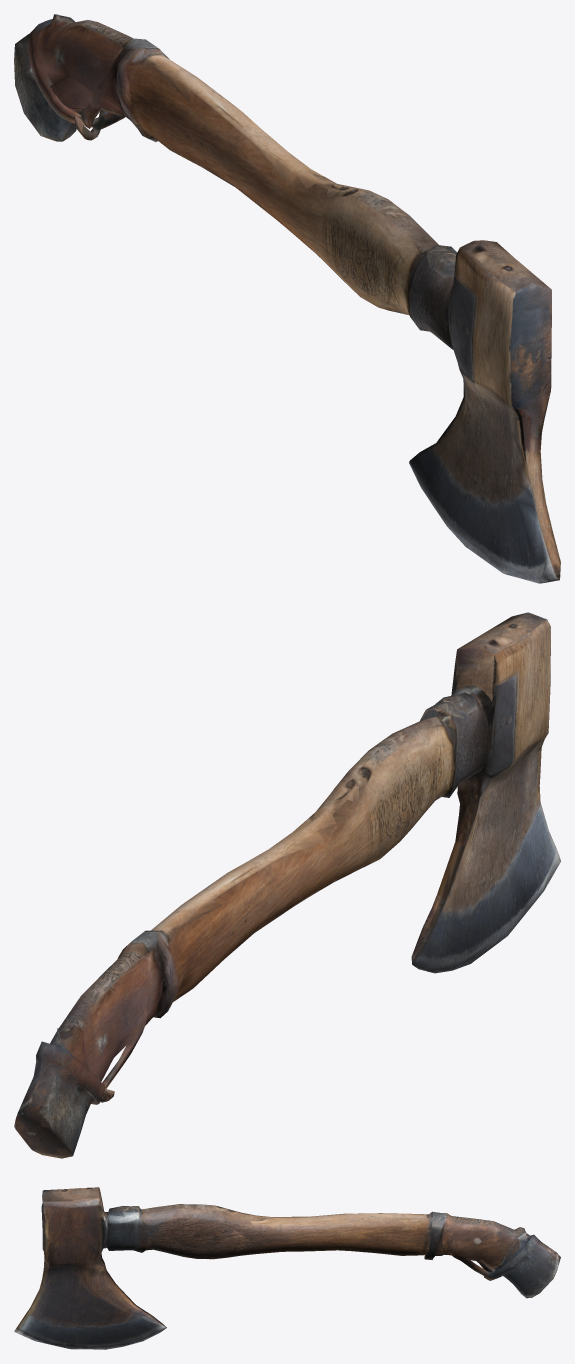
Rendered from axe1.fbx.
3 renders of one model, top to bottom at view 1: azimuth 30°, elevation 25°; view 2: azimuth 150°, elevation 25°; view 3: azimuth 270°, elevation 25°, orthographic. The views are drawn at different scales.
Visible parts, largest first — view 1: Mesh1_Mesh1.043; view 2: Mesh1_Mesh1.043; view 3: Mesh1_Mesh1.043.
Part boxes in pixels (x1,y1,x2,y2): Mesh1_Mesh1.043: [14, 14, 560, 583]; Mesh1_Mesh1.043: [14, 612, 560, 1158]; Mesh1_Mesh1.043: [14, 1187, 560, 1349].
Bounding box in the file's own units: 12.16 × 64.84 × 200.
Materials: 1 (1 with a texture image).
